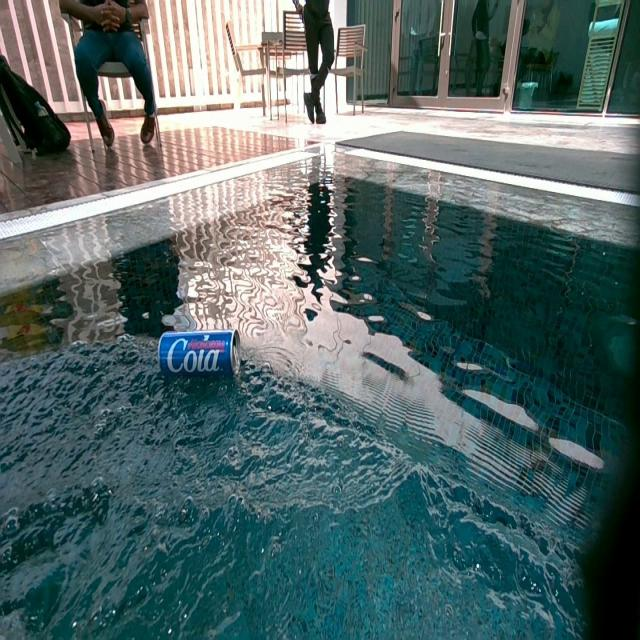Cans: (158, 331, 240, 378)
